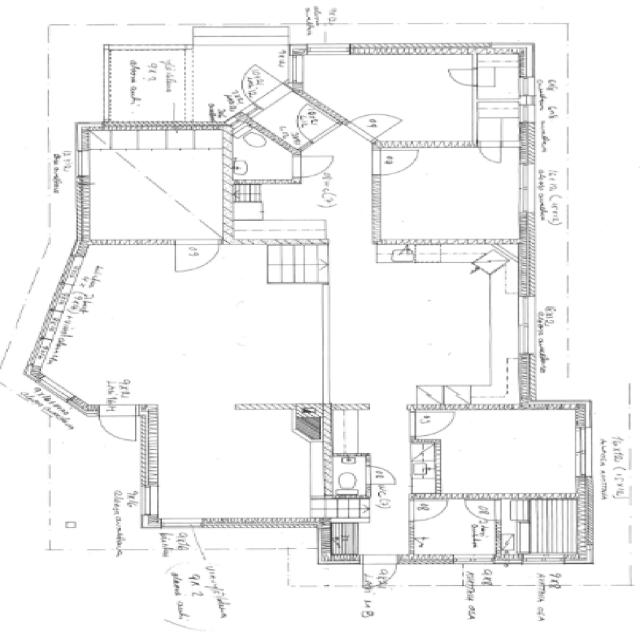door: (405, 401, 462, 439), (170, 236, 223, 275), (94, 408, 142, 444), (371, 147, 421, 177), (359, 554, 399, 591), (294, 150, 334, 180), (460, 498, 500, 523), (362, 464, 399, 488), (474, 142, 508, 167), (442, 67, 480, 89)
window: (509, 290, 539, 362), (569, 423, 594, 481), (514, 163, 538, 217), (136, 483, 162, 519), (517, 553, 567, 567), (458, 556, 496, 568)
zone: (44, 254, 330, 412), (327, 248, 507, 402), (140, 403, 324, 529), (75, 125, 228, 239), (298, 53, 474, 141), (418, 406, 582, 498), (372, 146, 526, 243), (125, 41, 291, 130), (44, 413, 142, 551), (494, 495, 592, 565), (105, 44, 186, 128), (407, 499, 498, 564), (228, 135, 298, 186), (474, 53, 528, 108), (328, 456, 372, 499)
